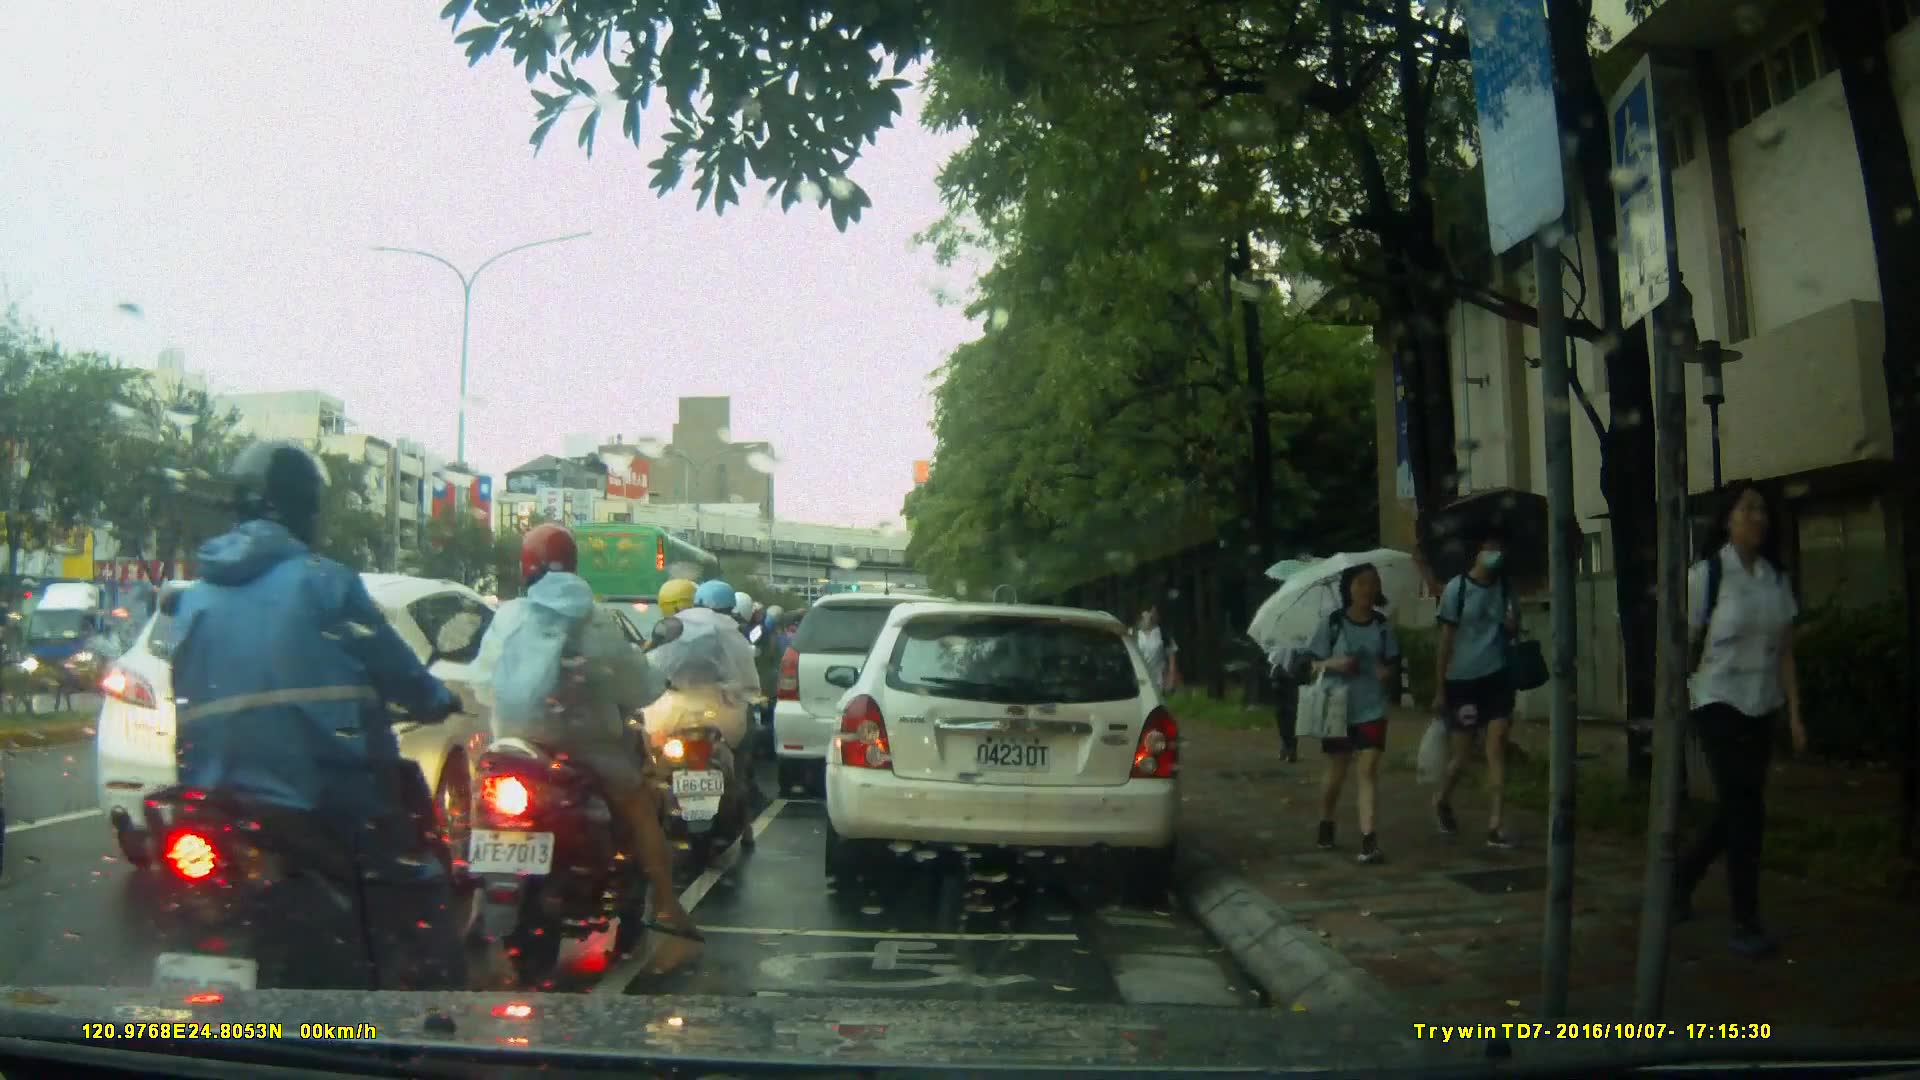pedestrian: (1666, 464, 1808, 942), (1421, 517, 1550, 857), (1297, 546, 1424, 877), (1265, 571, 1317, 771), (1125, 595, 1179, 760)
rider: (104, 435, 447, 1057), (457, 522, 715, 966), (626, 584, 773, 860), (667, 591, 763, 799)
vehicle: (102, 569, 602, 883), (822, 604, 1187, 883), (774, 595, 995, 802), (561, 522, 743, 663), (20, 576, 199, 697)
